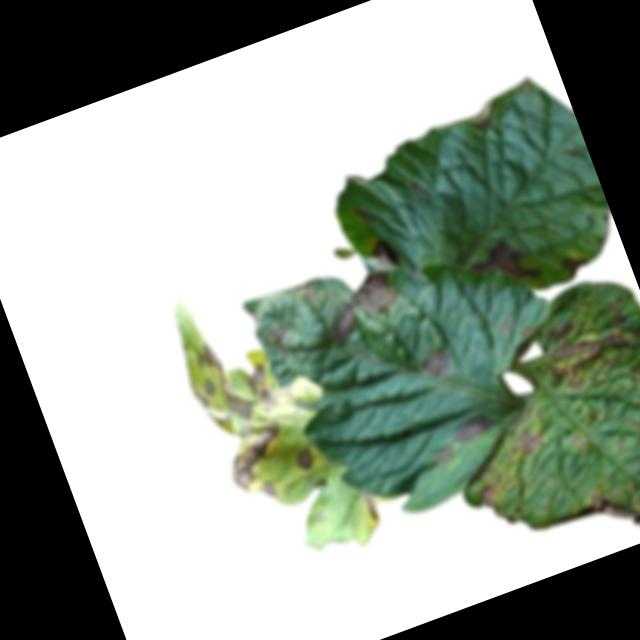Early_blight: (177, 326, 309, 512), (531, 290, 640, 397), (314, 267, 408, 350), (461, 226, 544, 299), (588, 467, 640, 554), (425, 408, 504, 465), (472, 473, 517, 518), (505, 420, 550, 462), (367, 231, 406, 275), (417, 342, 456, 379), (556, 250, 592, 279), (291, 444, 316, 474), (266, 322, 289, 345), (473, 112, 494, 131)
